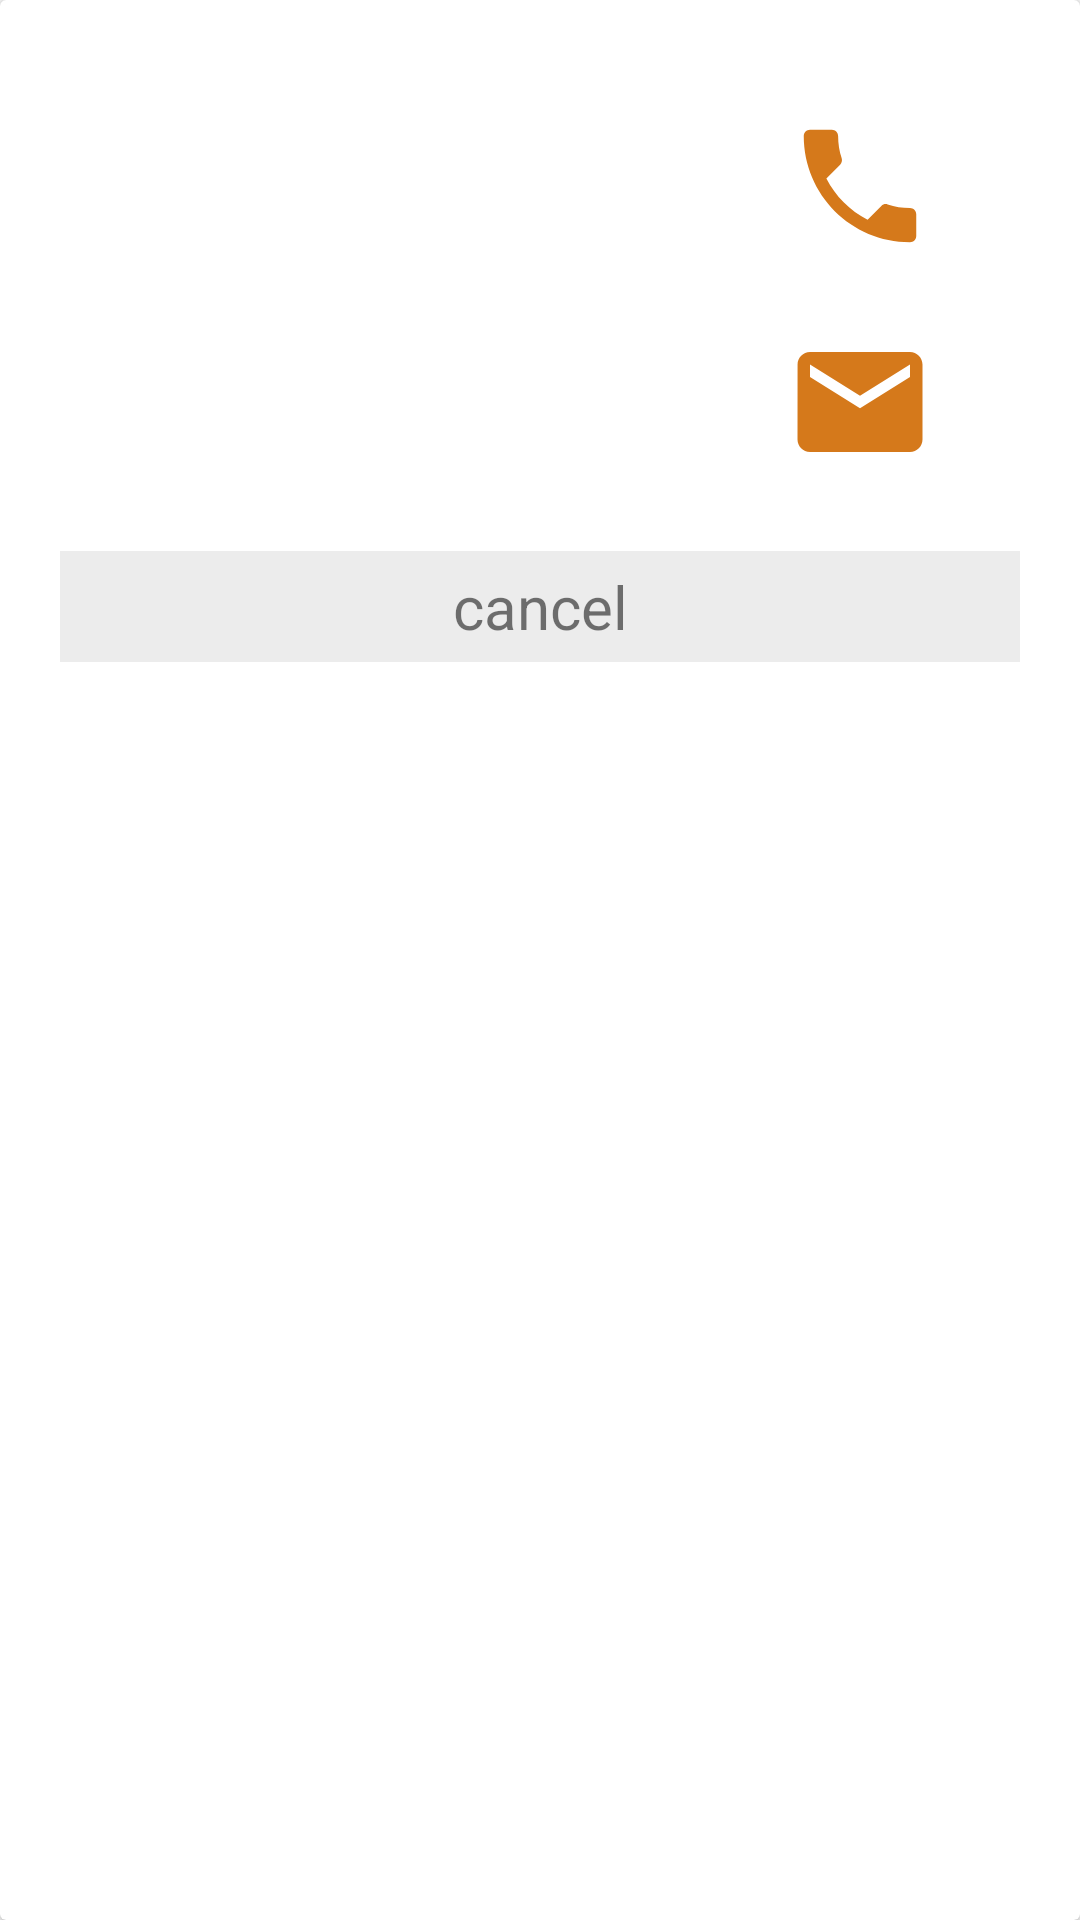

Icons on this 1080 × 1920 Android screen, each with the point to tap as [x,y]:
call: [860,186]
email: [860,402]
